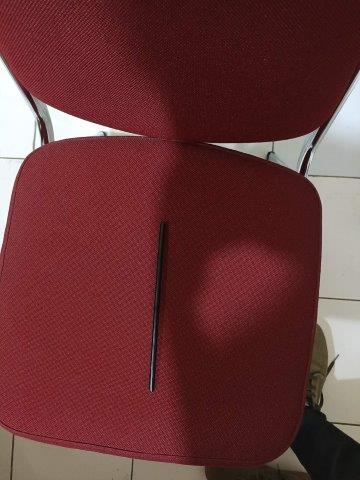sedotan: (149, 224, 166, 391)
